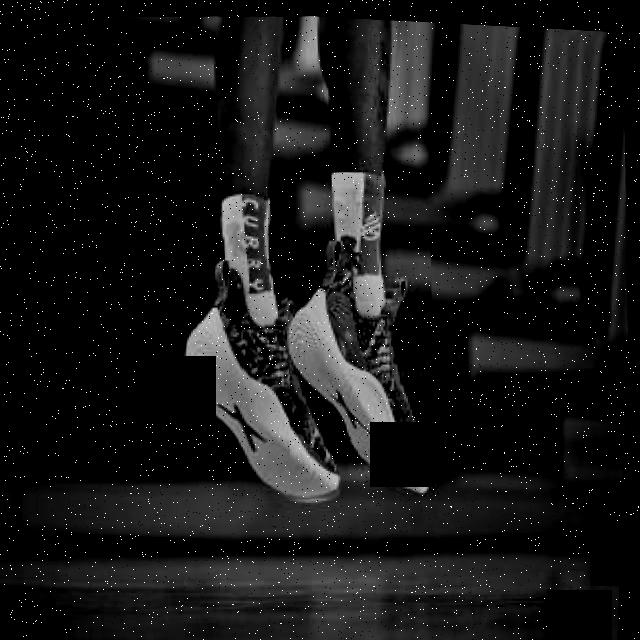shoe: (180, 250, 354, 509), (281, 230, 446, 495)
